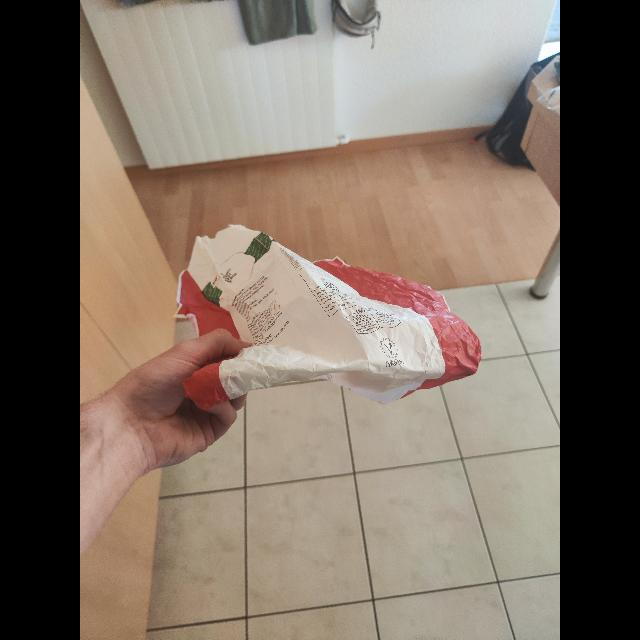Paper: (176, 223, 484, 413)
